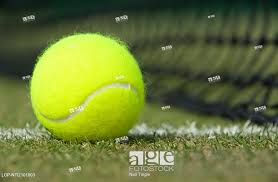tennis_ball: (29, 31, 147, 145)
